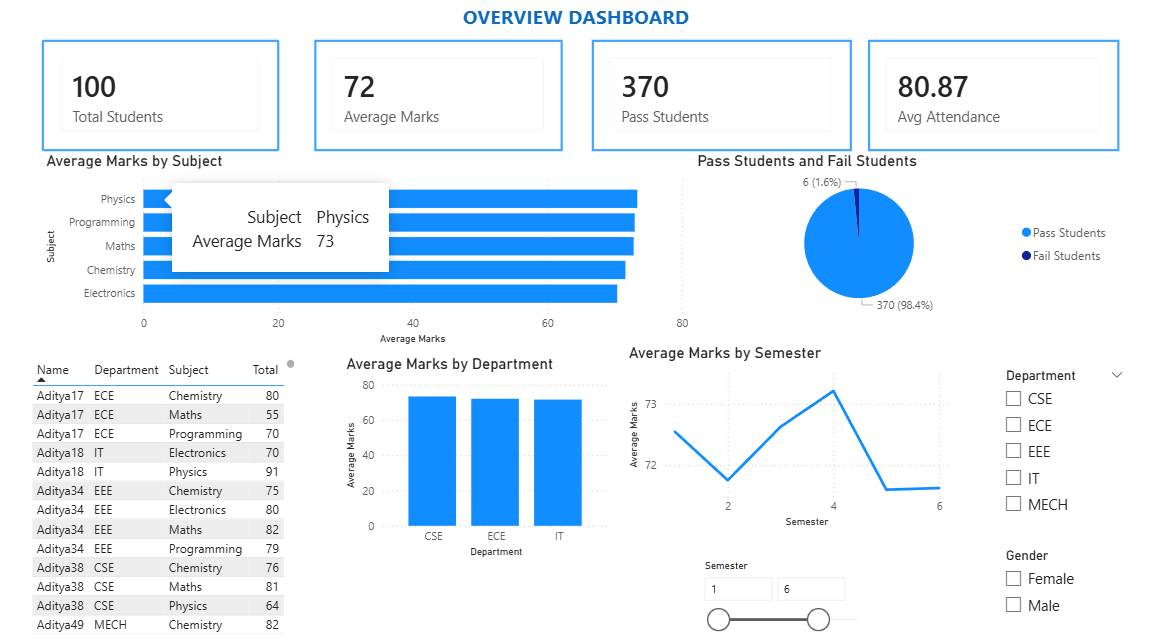

What the dashboard file says about the page in this screenshot:
{"tool":"powerbi","page":{"name":"Page 1","canvas":[1280,720],"ordinal":0},"visuals":[{"type":"pieChart","fields":{"Y":["Table.Pass Students","Table.Fail Students"]},"box":[763,175.6,467.9,183.9],"z":0},{"type":"barChart","fields":{"Category":["Subjects.Subject"],"Y":["Table.Average Marks"]},"box":[48,175.6,714.9,216.8],"z":1000},{"type":"clusteredColumnChart","fields":{"Category":["Subjects.Department"],"Y":["Table.Average Marks"]},"box":[377.4,399.3,299.1,227.8],"z":2000},{"type":"lineChart","fields":{"Y":["Table.Average Marks"],"Category":["Marks.Semester"]},"box":[687.5,387,360.9,207.2],"z":3000},{"type":"tableEx","fields":{"Values":["Students.Name","Students.Department","Marks.Subject","Sum(Marks.Total)"]},"box":[31.6,399.3,299.1,311.5],"z":4000},{"type":"slicer","fields":{"Values":["Students.Department"]},"box":[1093.7,408.9,153.7,185.2],"z":5000},{"type":"slicer","fields":{"Values":["Marks.Semester"]},"box":[763,618.9,203.1,101.5],"z":6000},{"type":"slicer","fields":{"Values":["Students.Gender"]},"box":[1093.7,606.5,150.9,87.8],"z":7000},{"type":"cardVisual","fields":{"Data":["Table.Pass Students"]},"box":[651.8,53.5,285.4,122.1],"z":8000},{"type":"cardVisual","fields":{"Data":["Table.Total Students"]},"box":[48,53.5,260.7,122.1],"z":9000},{"type":"cardVisual","fields":{"Data":["Table.Average Marks"]},"box":[347.2,53.5,273.1,122.1],"z":10000},{"type":"cardVisual","fields":{"Data":["Table.Avg Attendance"]},"box":[955.1,53.5,275.8,122.1],"z":11000},{"type":"textbox","box":[484.4,8.2,300.5,56.3],"z":12000}]}

Visuals, with their boxes in screenshot pixels (x1, y1, x2, y2), scaled from the page's 1280x720 canvas onto the 1160x639 screenshot:
pieChart - Table.Pass Students x Table.Fail Students: 691:156:1116:319
barChart - Subjects.Subject x Table.Average Marks: 44:156:691:348
clusteredColumnChart - Subjects.Department x Table.Average Marks: 342:354:613:557
lineChart - Table.Average Marks x Marks.Semester: 623:343:950:527
tableEx - Students.Name x Students.Department: 29:354:300:631
slicer - Students.Department: 991:363:1130:527
slicer - Marks.Semester: 691:549:876:638
slicer - Students.Gender: 991:538:1128:616
cardVisual - Table.Pass Students: 591:47:849:156
cardVisual - Table.Total Students: 44:47:280:156
cardVisual - Table.Average Marks: 315:47:562:156
cardVisual - Table.Avg Attendance: 866:47:1116:156
textbox: 439:7:711:57
